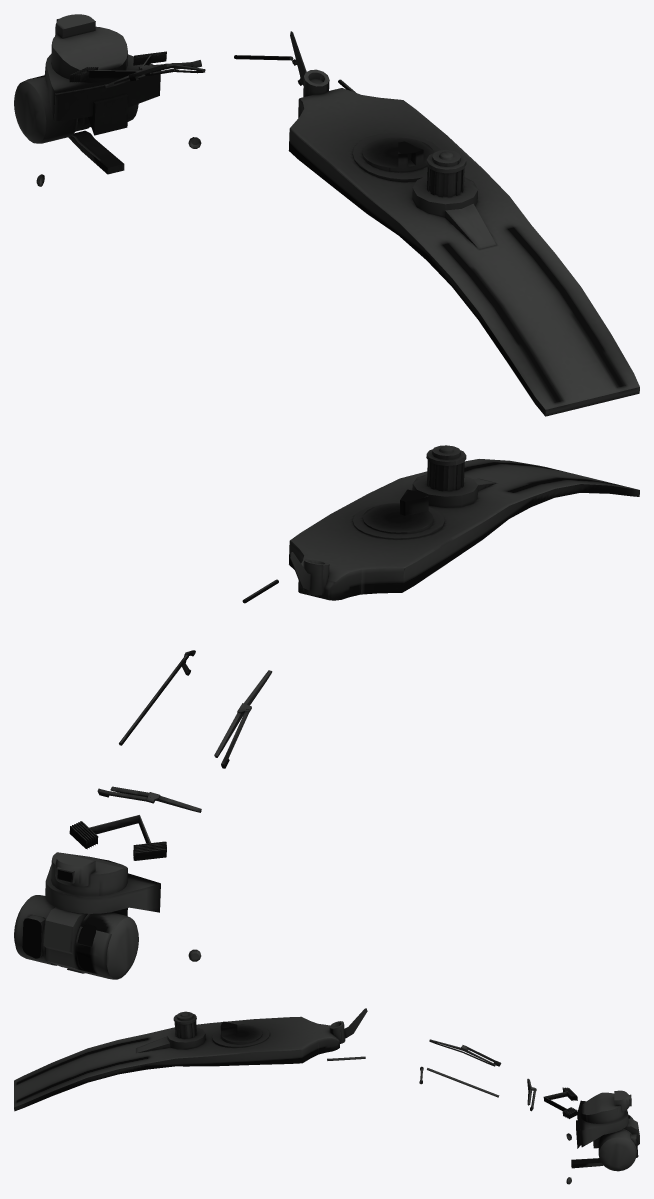
File: apache_2018-details1.obj
3 views of the same model, one above another, from view 1: azimuth 30°, elevation 25°; view 2: azimuth 150°, elevation 25°; view 3: azimuth 270°, elevation 25° (orthographic). The views are drawn at different scales.
Visible parts, largest first — view 1: apache_2018-details1.obj; view 2: apache_2018-details1.obj; view 3: apache_2018-details1.obj.
Boxes of the visible parts, x1,y1,x2,y2 form: apache_2018-details1.obj: [14, 14, 639, 416]; apache_2018-details1.obj: [14, 445, 639, 979]; apache_2018-details1.obj: [14, 1008, 639, 1184].
Bounding box in the file's own units: 0.1216 × 0.1911 × 0.6883.
Materials: 1 (1 with a texture image).
